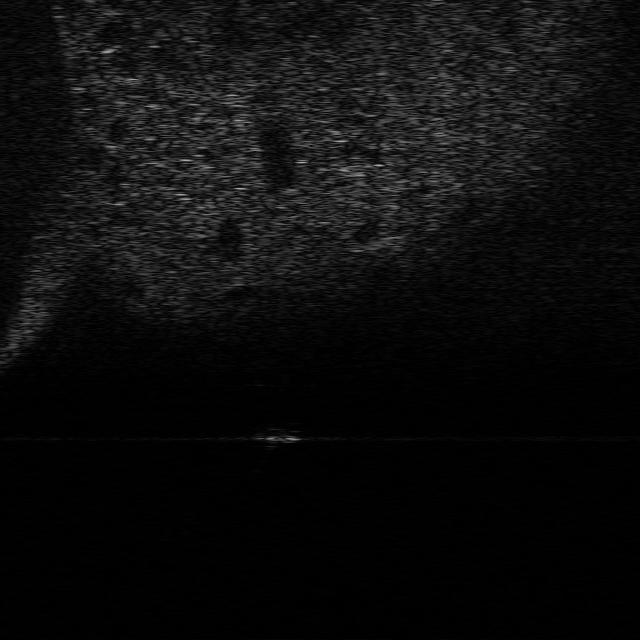cube: (256, 426, 298, 444)
